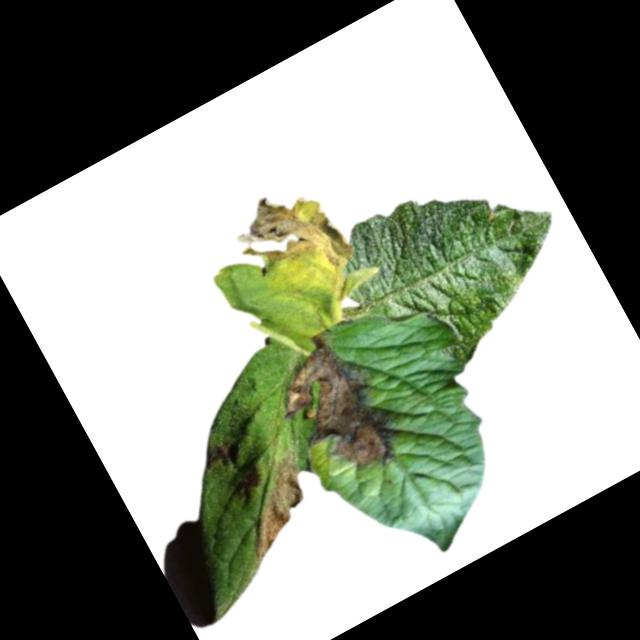Late_blight: (257, 319, 412, 495), (223, 172, 372, 332), (217, 447, 336, 566), (199, 439, 237, 477)
